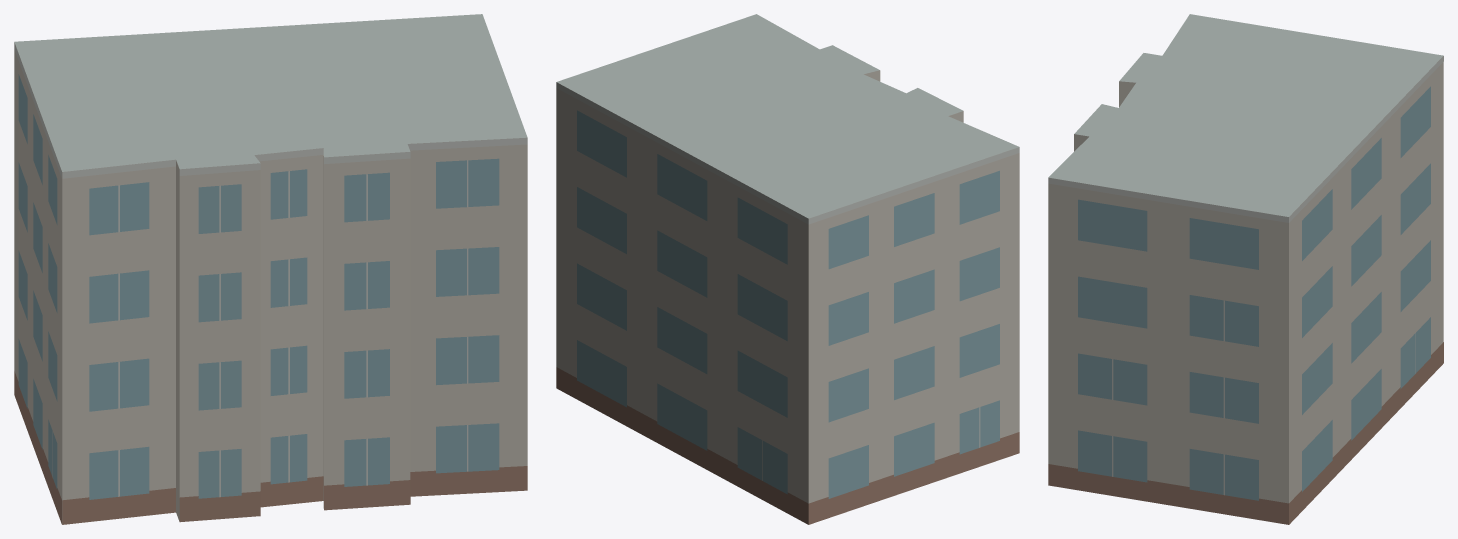
Rendered from survey-upis-32876776.glb.
3 views of the same model, side by side, from view 1: azimuth 30°, elevation 25°; view 2: azimuth 150°, elevation 25°; view 3: azimuth 270°, elevation 25° (orthographic). The views are drawn at different scales.
Parts seen in each view (by area): view 1: survey-upis-32876776.tmp; view 2: survey-upis-32876776.tmp; view 3: survey-upis-32876776.tmp.
Part boxes in pixels (bbox=[...]): survey-upis-32876776.tmp: bbox=[14, 14, 527, 524]; survey-upis-32876776.tmp: bbox=[556, 14, 1019, 524]; survey-upis-32876776.tmp: bbox=[1048, 14, 1443, 524].
Size of the model in its own units: 17.98 by 12.7 by 14.8.
